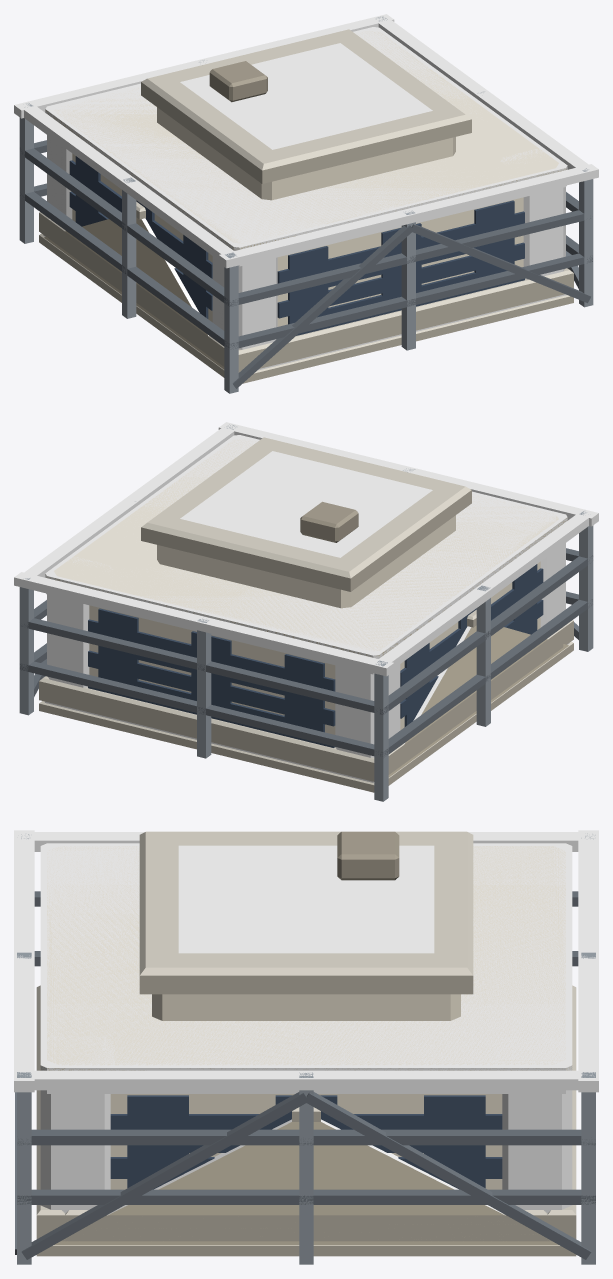
Rendered from buildings.glb.
3 views of the same model, one above another, from view 1: azimuth 30°, elevation 25°; view 2: azimuth 150°, elevation 25°; view 3: azimuth 270°, elevation 25° (orthographic). The views are drawn at different scales.
Visible parts, largest first — view 1: body_a, scaffold, body_a_lane, annex, scaffold_lane, roof_flat, annex_lane, body_c_lane, body_b, roof_pitched, body_c, body_b_lane; view 2: body_a, scaffold, body_a_lane, annex, scaffold_lane, roof_flat, annex_lane, body_c_lane, body_b, roof_pitched, body_c, body_b_lane; view 3: body_a, body_a_lane, annex, scaffold, annex_lane, scaffold_lane, roof_flat, roof_pitched, body_c_lane, body_b, body_c, roof_pitched_lane.
Part boxes in pixels (box(x1,y1,x2,y2)): body_a: box(54, 31, 558, 335); scaffold: box(19, 16, 593, 393); body_a_lane: box(45, 27, 567, 266); annex: box(141, 29, 471, 200); scaffold_lane: box(14, 14, 598, 268); roof_flat: box(39, 212, 573, 383); annex_lane: box(180, 43, 432, 149); body_c_lane: box(47, 27, 565, 349); body_b: box(45, 110, 566, 331); roof_pitched: box(39, 201, 573, 382); body_c: box(301, 226, 484, 333); body_b_lane: box(43, 235, 566, 370); body_a: box(54, 439, 558, 747); scaffold: box(19, 424, 593, 801); body_a_lane: box(45, 435, 567, 674); annex: box(141, 437, 471, 608); scaffold_lane: box(14, 422, 598, 676); roof_flat: box(39, 620, 573, 792); annex_lane: box(180, 451, 432, 557); body_c_lane: box(47, 436, 565, 757); body_b: box(46, 518, 567, 738); roof_pitched: box(39, 609, 573, 791); body_c: box(110, 581, 530, 735); body_b_lane: box(45, 643, 569, 782); body_a: box(47, 846, 565, 1189); body_a_lane: box(40, 843, 572, 1093); annex: box(139, 831, 473, 1020); scaffold: box(15, 833, 595, 1264); annex_lane: box(178, 845, 434, 953); scaffold_lane: box(14, 830, 598, 1092); roof_flat: box(36, 985, 576, 1256); roof_pitched: box(37, 1107, 576, 1256); body_c_lane: box(40, 843, 572, 1213); body_b: box(40, 1066, 571, 1189); body_c: box(145, 1119, 466, 1188); roof_pitched_lane: box(109, 1119, 503, 1214).
Size of the model in its own units: 2.88 by 1.44 by 2.84.
Materials: 1 (1 with a texture image).
